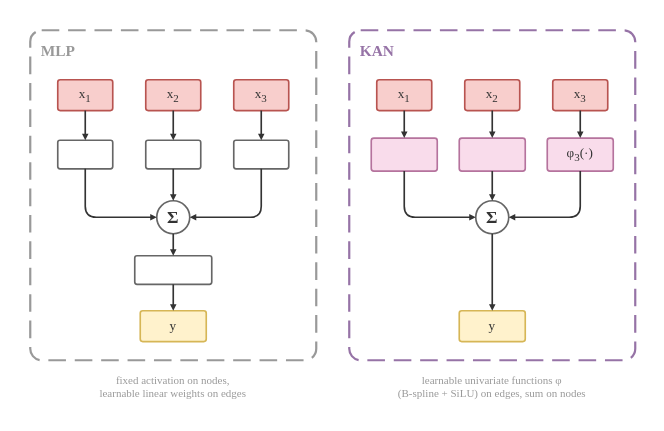
Image size: 664x431. Some labels were removed from this diagram. The shapes that lost their labels are listed below. From the top down, each one's centre as x and y in pixels, then its label:
At [84,154]: "w 1".
At [172,154]: "w 2".
At [260,154]: "w 3".
At [404,154]: "φ 1 (·)".
At [492,154]: "φ 2 (·)".
At [172,269]: "σ (fixed)".
